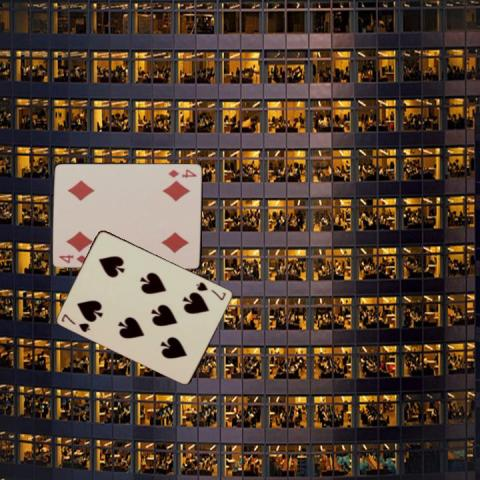4d: (56, 251, 89, 265), (165, 166, 198, 179)
7s: (194, 279, 228, 301), (59, 311, 92, 333)
